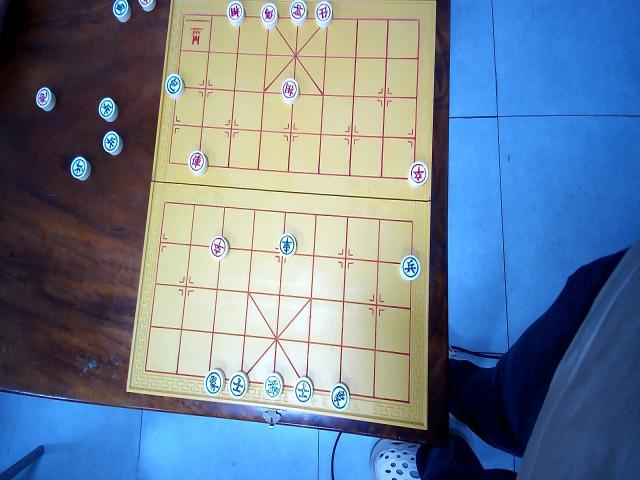piece: (330, 381, 350, 410), (226, 0, 246, 28), (407, 159, 427, 187), (263, 372, 283, 400), (313, 0, 333, 27), (187, 148, 207, 175), (229, 370, 249, 397), (204, 369, 224, 396), (399, 253, 419, 280), (98, 96, 118, 123), (70, 155, 90, 182), (164, 73, 184, 99), (35, 85, 55, 111), (102, 129, 122, 155), (208, 234, 228, 259), (260, 2, 278, 29), (290, 0, 308, 27), (280, 76, 298, 103), (294, 376, 312, 403), (111, 0, 131, 22), (278, 233, 296, 257), (138, 0, 156, 12)
